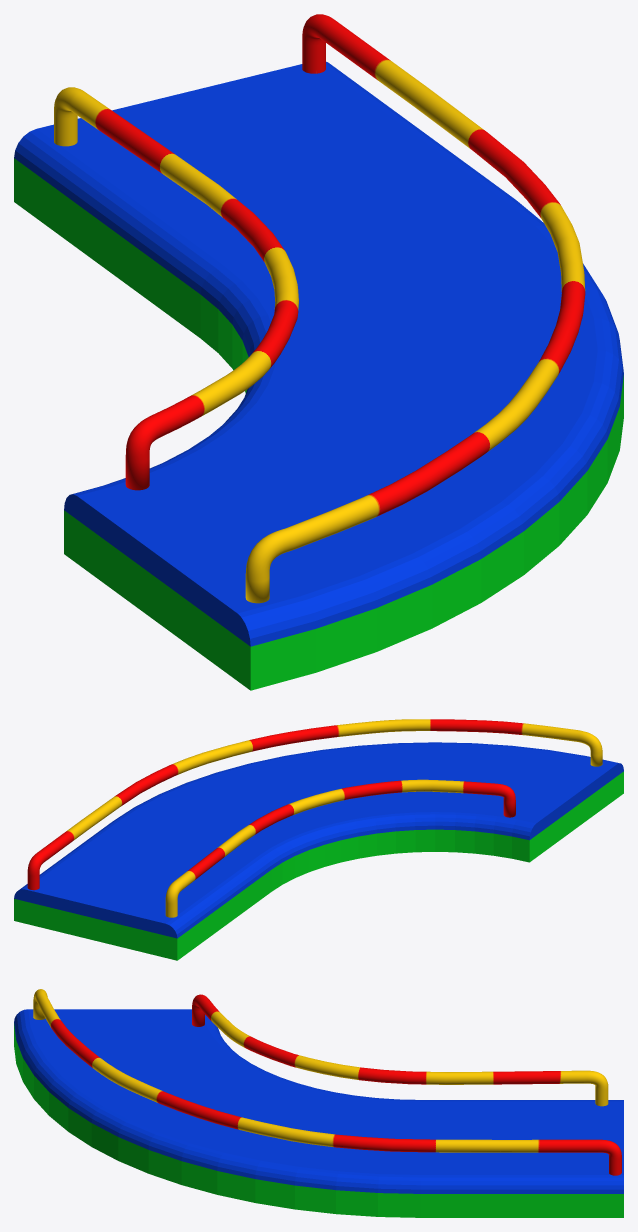
File: 3 with texture.fbx
The picture shows the model from 3 angles, top to bottom: view 1: azimuth 30°, elevation 25°; view 2: azimuth 150°, elevation 25°; view 3: azimuth 270°, elevation 25°; orthographic projection. The views are drawn at different scales.
Parts seen in each view (by area): view 1: Cube, pCylinder19, pCylinder22; view 2: Cube, pCylinder19, pCylinder22; view 3: Cube, pCylinder19, pCylinder22.
Part boxes in pixels (x1,y1,x2,y2): Cube: (14,61,623,690); pCylinder19: (245,14,585,603); pCylinder22: (54,87,298,490); Cube: (14,742,623,960); pCylinder19: (27,719,602,890); pCylinder22: (165,779,515,917); Cube: (14,1009,623,1217); pCylinder19: (33,989,621,1175); pCylinder22: (192,994,608,1106).
Bounding box in the file's own units: 1000 × 189 × 1500.
